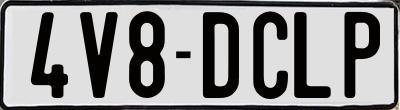4: (29, 12, 68, 104)
8: (127, 10, 166, 103)
C: (253, 8, 291, 96)
D: (201, 10, 240, 96)
L: (294, 11, 336, 101)
P: (343, 10, 379, 97)
V: (77, 10, 119, 98)
